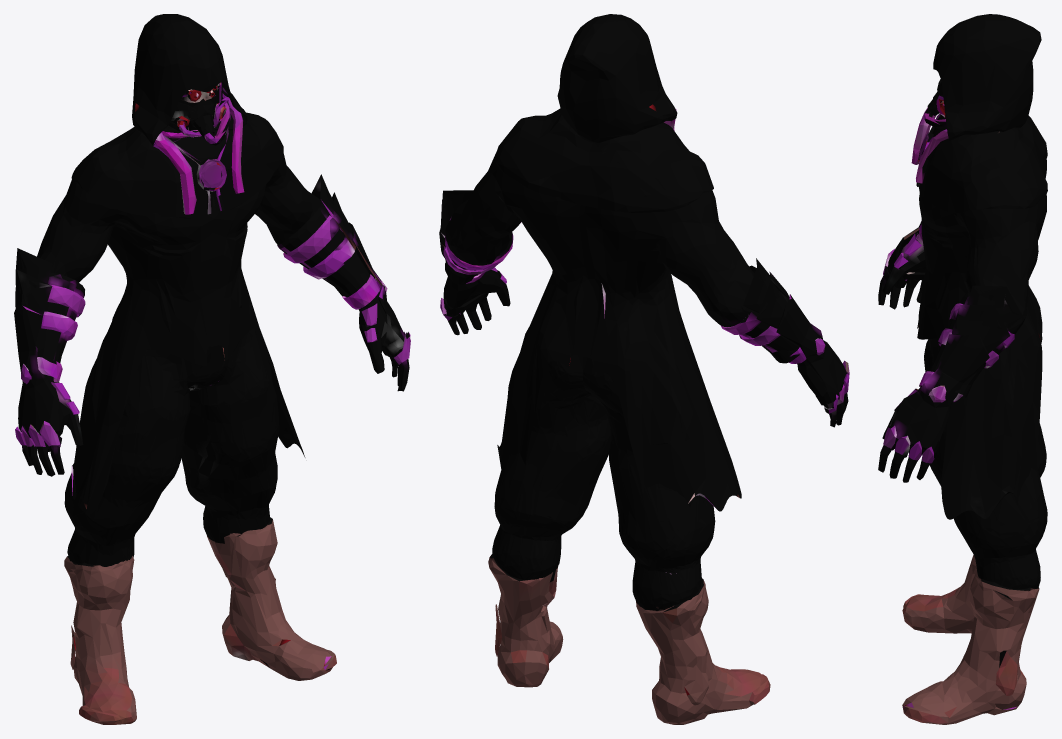
The model's file is raolet.glb.
The picture shows the model from 3 angles, left to right: view 1: azimuth 30°, elevation 25°; view 2: azimuth 150°, elevation 25°; view 3: azimuth 270°, elevation 25°; orthographic projection. The views are drawn at different scales.
Parts seen in each view (by area): view 1: tilinson; view 2: tilinson; view 3: tilinson.
Part boxes in pixels (<box>): tilinson: <box>14,14,410,724</box>; tilinson: <box>439,14,849,724</box>; tilinson: <box>878,14,1047,724</box>.
Bounding box in the file's own units: 29.55 × 48.14 × 11.31.
Materials: 1 (1 with a texture image).
